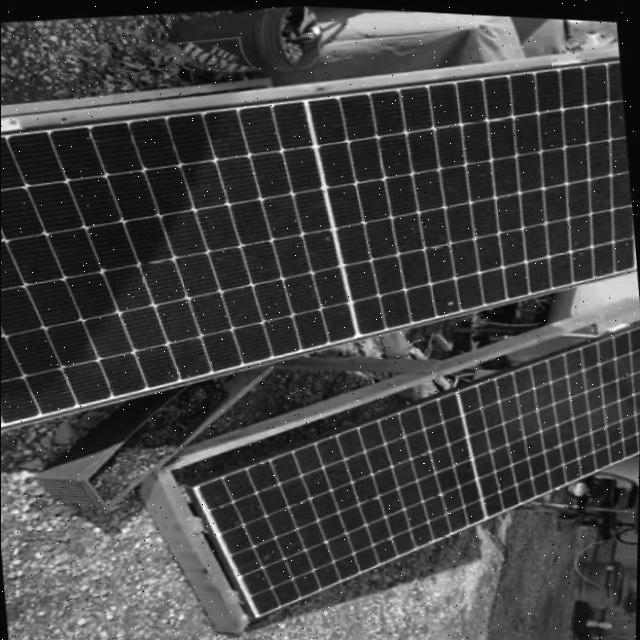Normal Solar Panel: (0, 22, 640, 454), (174, 295, 640, 635)
